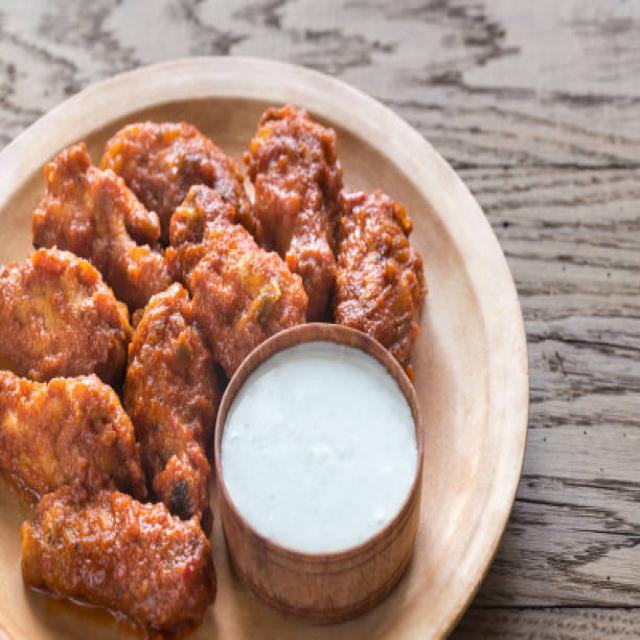Frango: (0, 94, 431, 640)
